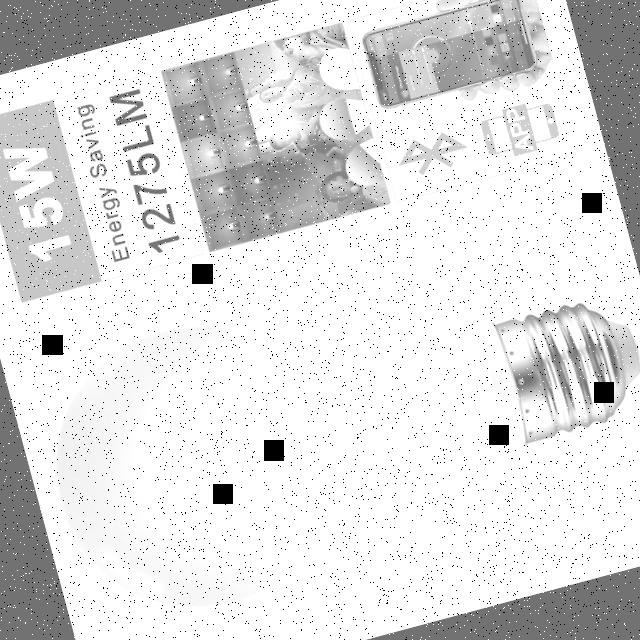light_bulb: (7, 200, 640, 640)
